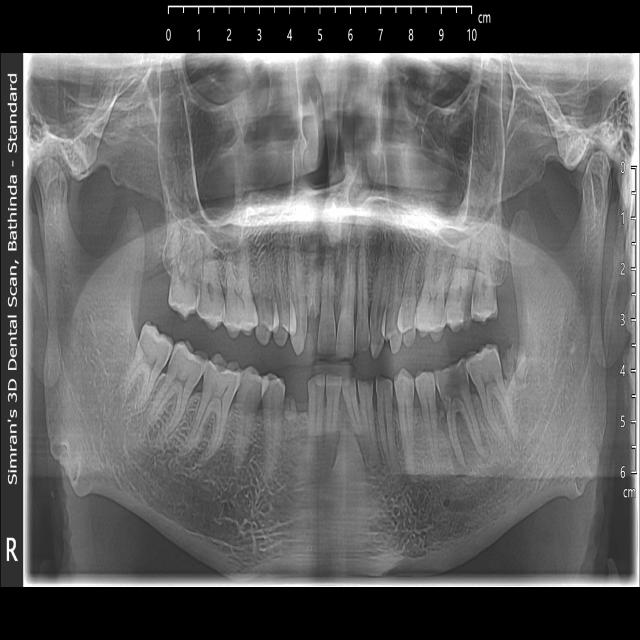Caries: (439, 362, 465, 402), (472, 282, 497, 320)
Missing teeth: (288, 393, 307, 464)
Periapical lesion: (440, 394, 492, 475)
Root Piece: (444, 291, 470, 333), (307, 241, 320, 320), (503, 348, 522, 385), (281, 395, 297, 420)
